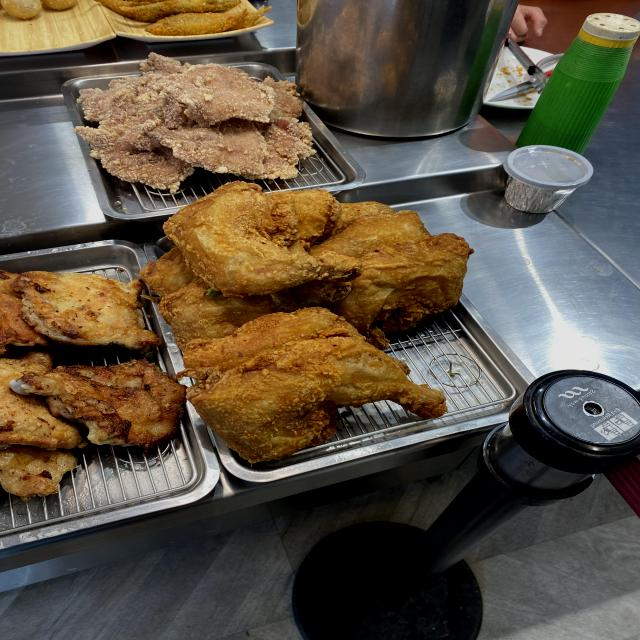Chicken Leg Steak: (10, 282, 126, 447)
